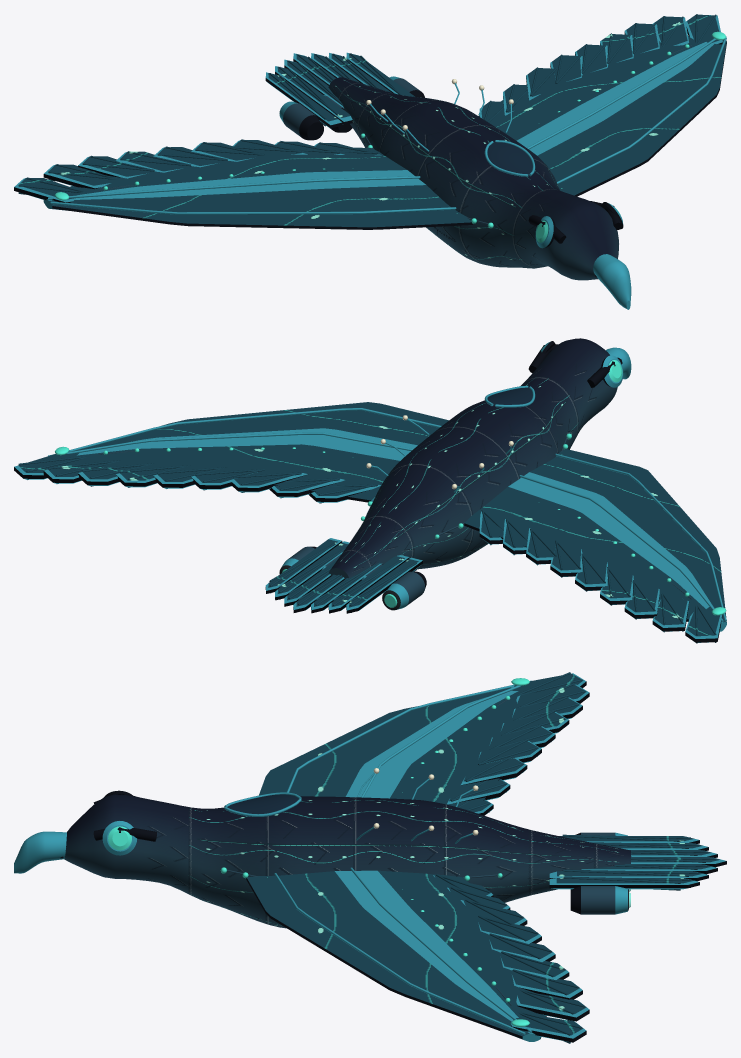
3 renders of one model, top to bottom at view 1: azimuth 30°, elevation 25°; view 2: azimuth 150°, elevation 25°; view 3: azimuth 270°, elevation 25°, orthographic. The views are drawn at different scales.
Visible parts, largest first — view 1: falcon_hull; view 2: falcon_hull; view 3: falcon_hull.
Part boxes in pixels (x1=…): falcon_hull: x1=14, y1=14, x2=726, y2=309; falcon_hull: x1=14, y1=338, x2=726, y2=643; falcon_hull: x1=14, y1=672, x2=726, y2=1043.
Bounding box in the file's own units: 40 × 6.49 × 32.98.
1 material, 1 textured.
